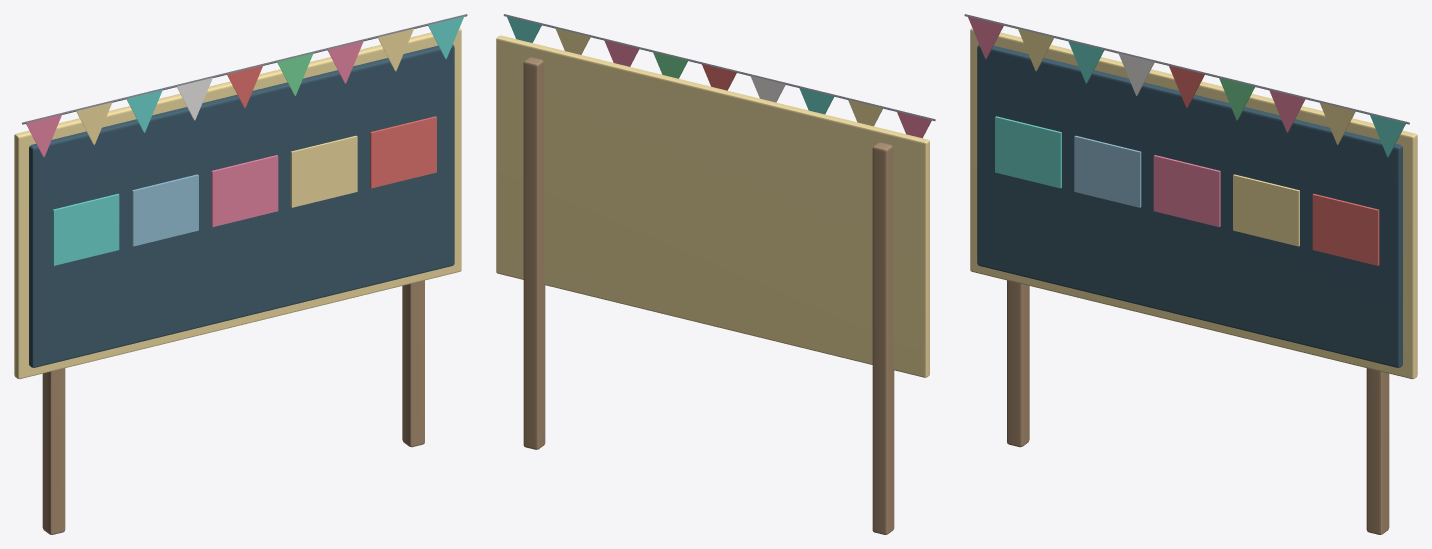
The model's file is FamousBoard.fbx.
3 views of the same model, side by side, from view 1: azimuth 30°, elevation 25°; view 2: azimuth 150°, elevation 25°; view 3: azimuth 330°, elevation 25° (orthographic). The views are drawn at different scales.
Parts seen in each view (by area): view 1: FamousBoard; view 2: FamousBoard; view 3: FamousBoard.
Part boxes in pixels (box(x1,y1,x2,y2)): FamousBoard: box(14, 14, 467, 534); FamousBoard: box(496, 14, 935, 534); FamousBoard: box(964, 14, 1417, 534).
Size of the model in its own units: 4.2 by 3.86 by 0.265.
